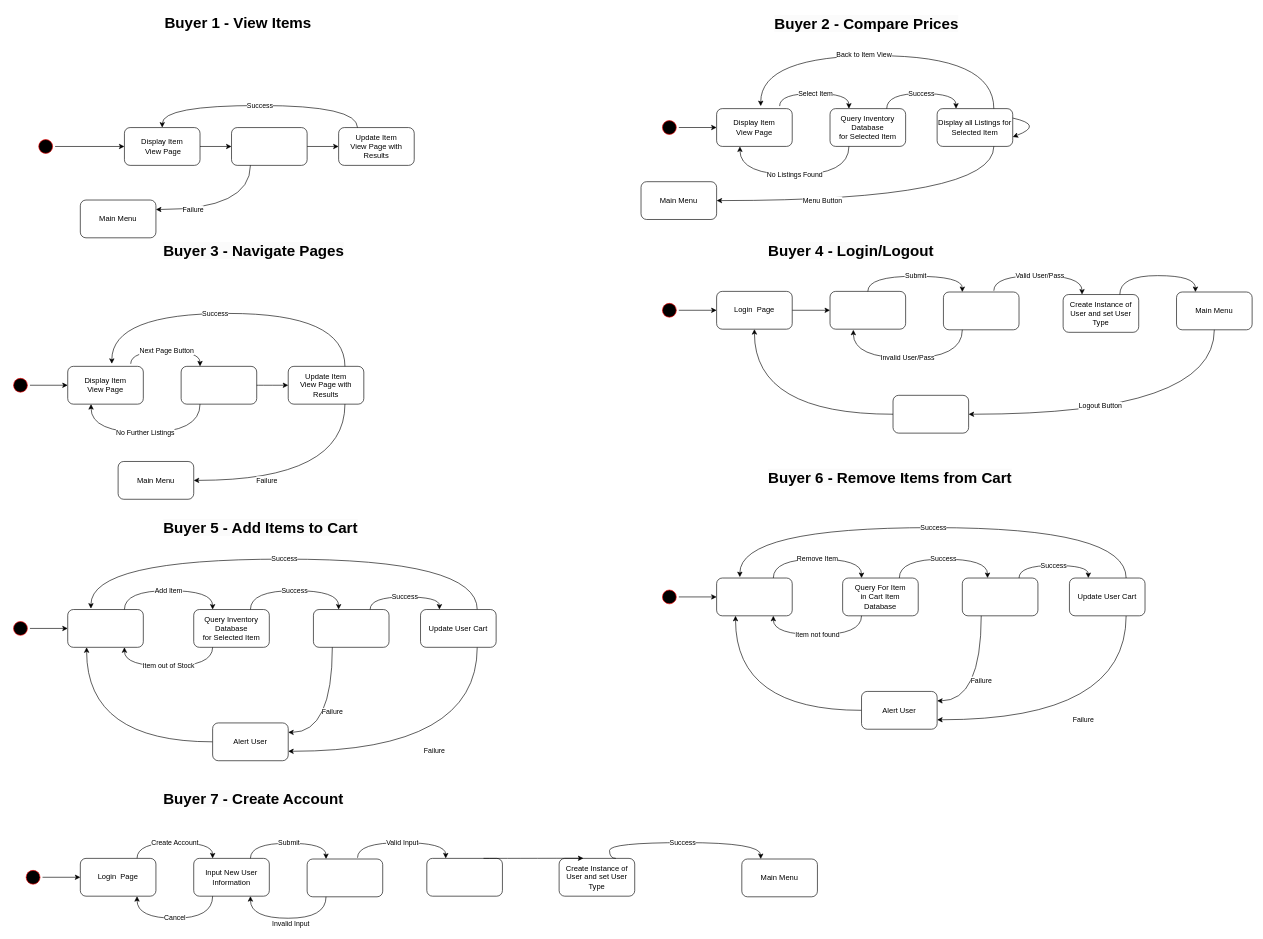
This 1263x939 diagram has some shape labels left out. Here are the shapes that lost their labels. From the top down, the centre of each, then its label:
At pixel 269 146: "Query Database for Listings".
At pixel 867 310: "Input Username and Password".
At pixel 981 310: "Verify User/Pass Combo in Database".
At pixel 218 385: "Query Database for next Listings".
At pixel 930 414: "Clear User Class".
At pixel 754 596: "Cart View Page".
At pixel 1000 596: "Remove Item from Cart Item Database".
At pixel 105 628: "Item View Page".
At pixel 351 628: "Add Item to Cart ID Database".
At pixel 344 877: "Verify Information".
At pixel 464 877: "Create Entry For Account in User Database".
